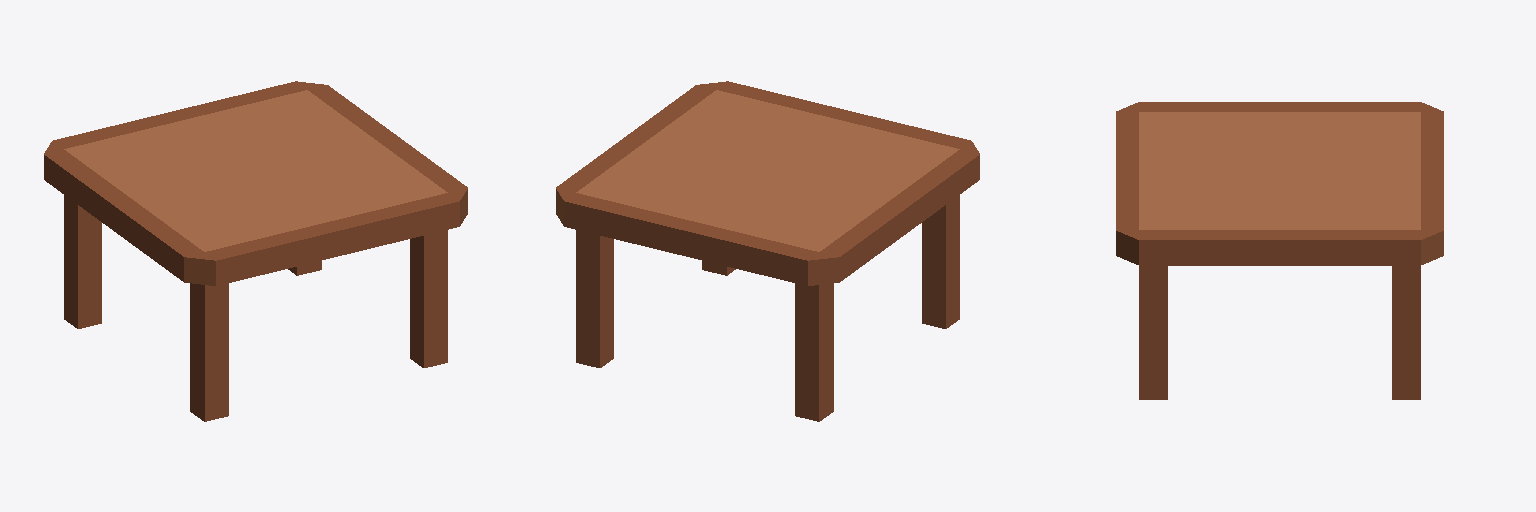
3 views of the same model, side by side, from view 1: azimuth 30°, elevation 25°; view 2: azimuth 150°, elevation 25°; view 3: azimuth 270°, elevation 25° (orthographic).
Parts seen in each view (by area): view 1: Cube; view 2: Cube; view 3: Cube.
Part boxes in pixels (bbox=[...]): Cube: bbox=[44, 81, 467, 421]; Cube: bbox=[556, 81, 979, 421]; Cube: bbox=[1116, 102, 1443, 399].
Size of the model in its own units: 1.75 by 1 by 1.75.
Materials: 1 (1 with a texture image).